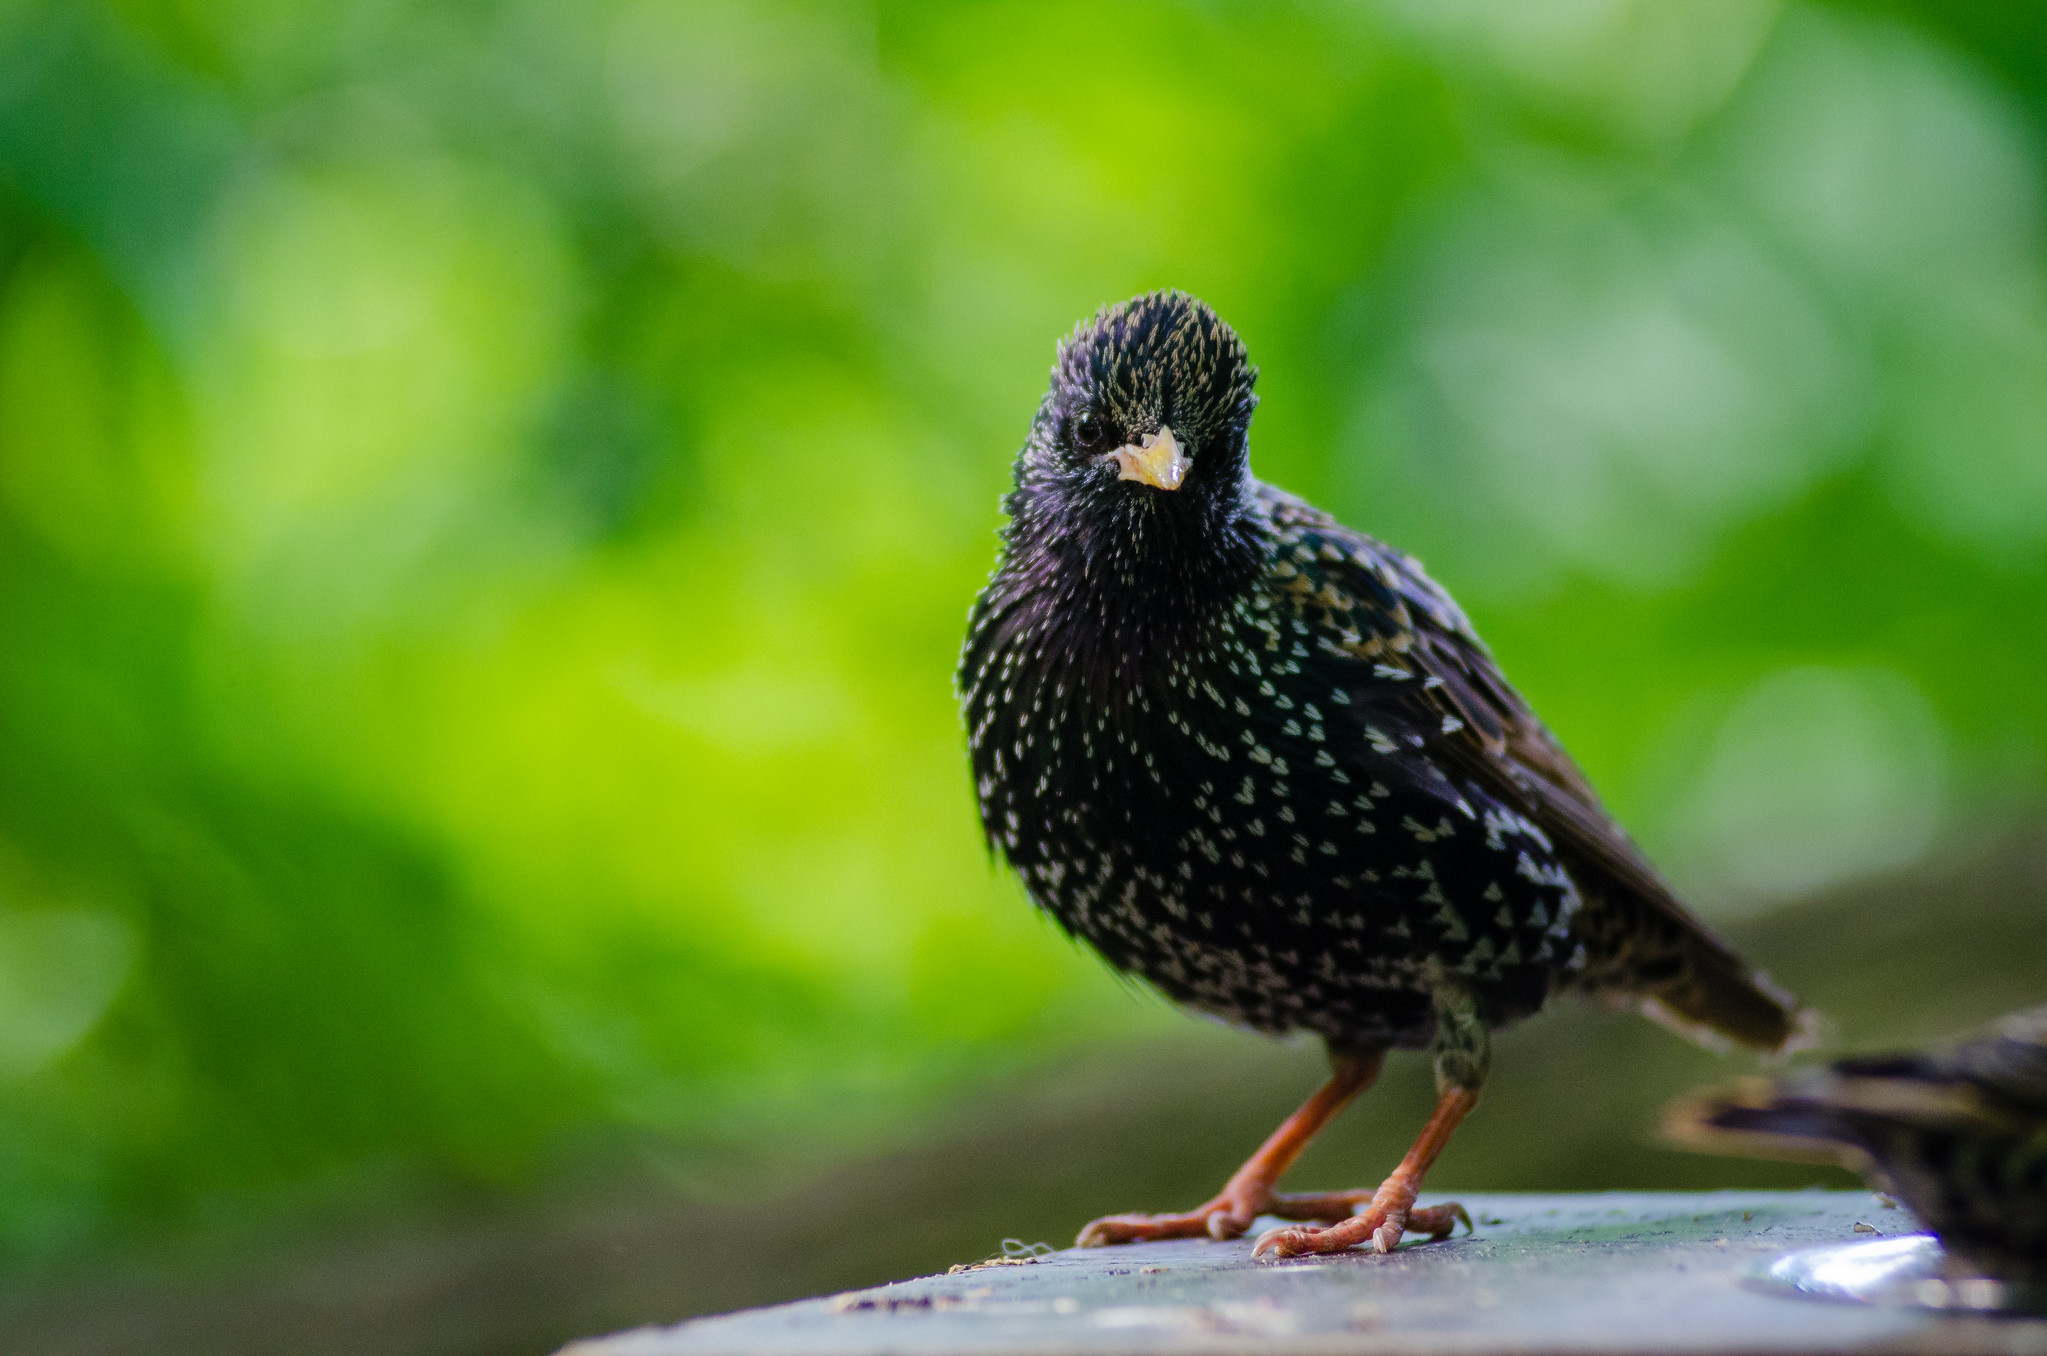bird: (952, 291, 1803, 1262)
